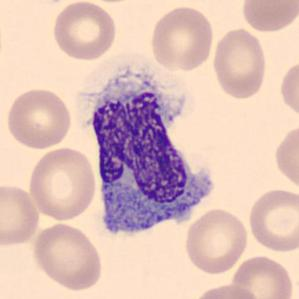Monocyte: (87, 57, 220, 246)
RBC: (26, 145, 99, 222), (30, 220, 105, 292), (148, 3, 216, 74), (182, 207, 250, 275), (4, 85, 74, 150), (210, 26, 269, 101), (50, 0, 119, 62), (246, 186, 298, 254), (228, 253, 295, 299), (0, 181, 42, 248), (271, 121, 299, 194), (238, 0, 298, 34), (278, 57, 298, 122), (191, 281, 262, 299), (86, 0, 140, 5)
